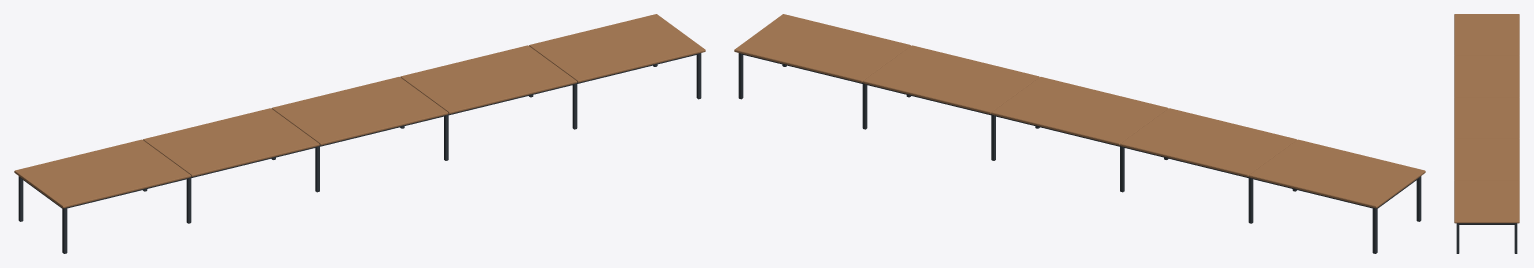
Rendered from mesa-cais.obj.
The picture shows the model from 3 angles, left to right: view 1: azimuth 30°, elevation 25°; view 2: azimuth 150°, elevation 25°; view 3: azimuth 270°, elevation 25°; orthographic projection. The views are drawn at different scales.
Visible parts, largest first — view 1: mesa-cais_carvalho, mesa-cais_metal_escuro; view 2: mesa-cais_carvalho, mesa-cais_metal_escuro; view 3: mesa-cais_carvalho, mesa-cais_metal_escuro.
Boxes of the visible parts, x1=… form: mesa-cais_carvalho: x1=14, y1=14, x2=705, y2=208; mesa-cais_metal_escuro: x1=18, y1=53, x2=701, y2=253; mesa-cais_carvalho: x1=734, y1=14, x2=1425, y2=208; mesa-cais_metal_escuro: x1=738, y1=53, x2=1421, y2=253; mesa-cais_carvalho: x1=1454, y1=14, x2=1519, y2=223; mesa-cais_metal_escuro: x1=1456, y1=223, x2=1517, y2=253.
Size of the model in its own units: 10.57 by 0.78 by 1.4.
